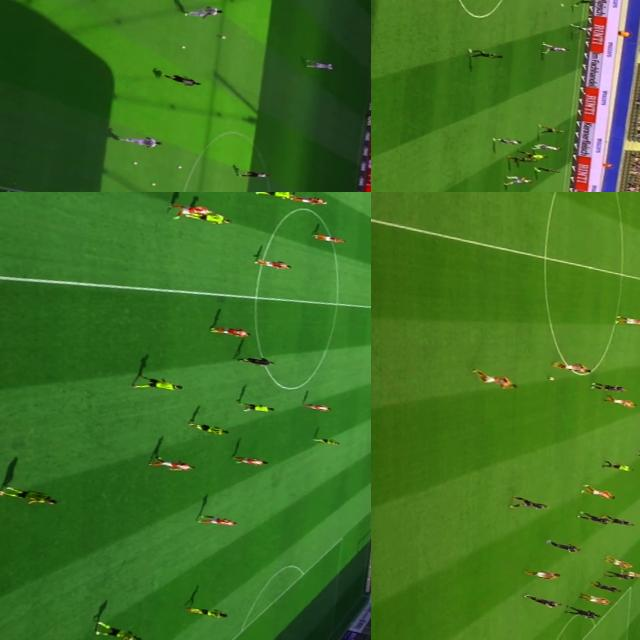ball: (146, 180, 158, 187), (546, 375, 557, 382), (217, 34, 227, 40), (180, 44, 188, 50), (132, 160, 141, 165), (558, 2, 567, 6), (178, 165, 185, 170)
player: (0, 482, 63, 504), (150, 454, 200, 476), (93, 621, 149, 640), (133, 374, 186, 394), (466, 369, 519, 387), (168, 200, 215, 220), (184, 418, 233, 437), (188, 602, 232, 622), (188, 210, 235, 227), (210, 322, 255, 339), (510, 494, 552, 512), (116, 132, 160, 149), (181, 1, 219, 20), (291, 192, 332, 209), (232, 452, 273, 468), (552, 359, 594, 374), (522, 592, 566, 606), (582, 485, 620, 501), (160, 72, 203, 86), (240, 398, 277, 414), (253, 257, 295, 271), (544, 539, 586, 553), (198, 512, 239, 526), (540, 40, 573, 57), (567, 604, 606, 618), (467, 47, 502, 62), (235, 167, 272, 181), (576, 512, 615, 525), (252, 192, 297, 203), (594, 380, 628, 394), (604, 395, 640, 408), (602, 514, 638, 526), (528, 568, 561, 581), (508, 153, 540, 166), (316, 434, 348, 447), (614, 314, 640, 330), (582, 592, 615, 604), (608, 556, 636, 570), (314, 232, 349, 243), (532, 164, 564, 176), (305, 59, 335, 71), (503, 174, 532, 186), (537, 124, 566, 136), (494, 135, 524, 146), (591, 582, 624, 592), (608, 570, 636, 580), (570, 23, 597, 33), (308, 402, 335, 412), (536, 143, 564, 151), (621, 568, 640, 578), (570, 0, 596, 7)
